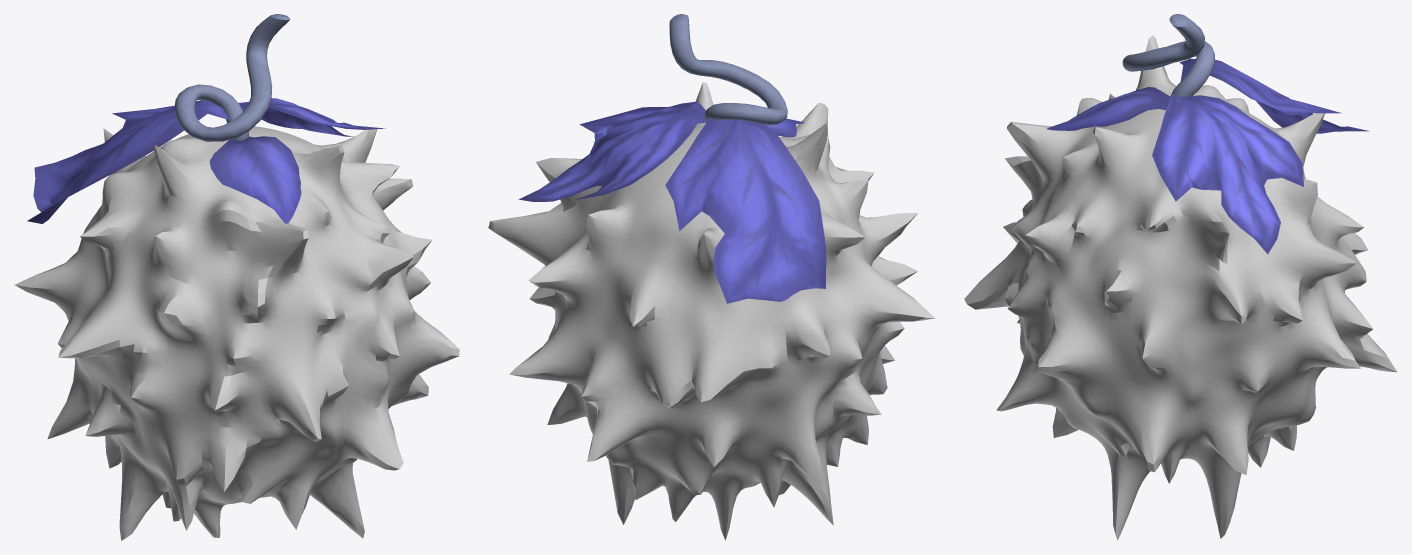
The model's file is BerryModel.fbx.
3 renders of one model, left to right at view 1: azimuth 30°, elevation 25°; view 2: azimuth 150°, elevation 25°; view 3: azimuth 270°, elevation 25°, orthographic. The views are drawn at different scales.
Visible parts, largest first — view 1: beere; view 2: beere; view 3: beere.
Boxes of the visible parts, box(x1,y1,x2,y2) form: beere: box(14, 14, 459, 540); beere: box(488, 14, 935, 540); beere: box(964, 14, 1397, 540).
Size of the model in its own units: 0.1075 by 0.1307 by 0.1017.
